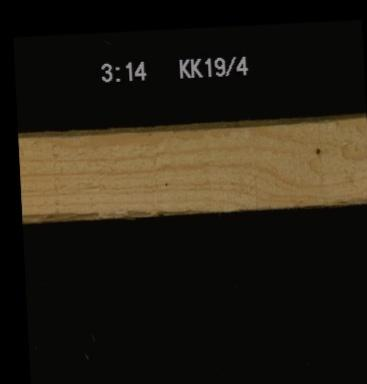small_knot: (312, 143, 321, 155)
